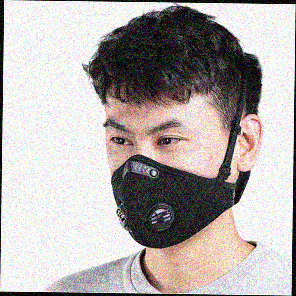with_mask: (102, 115, 239, 250)
